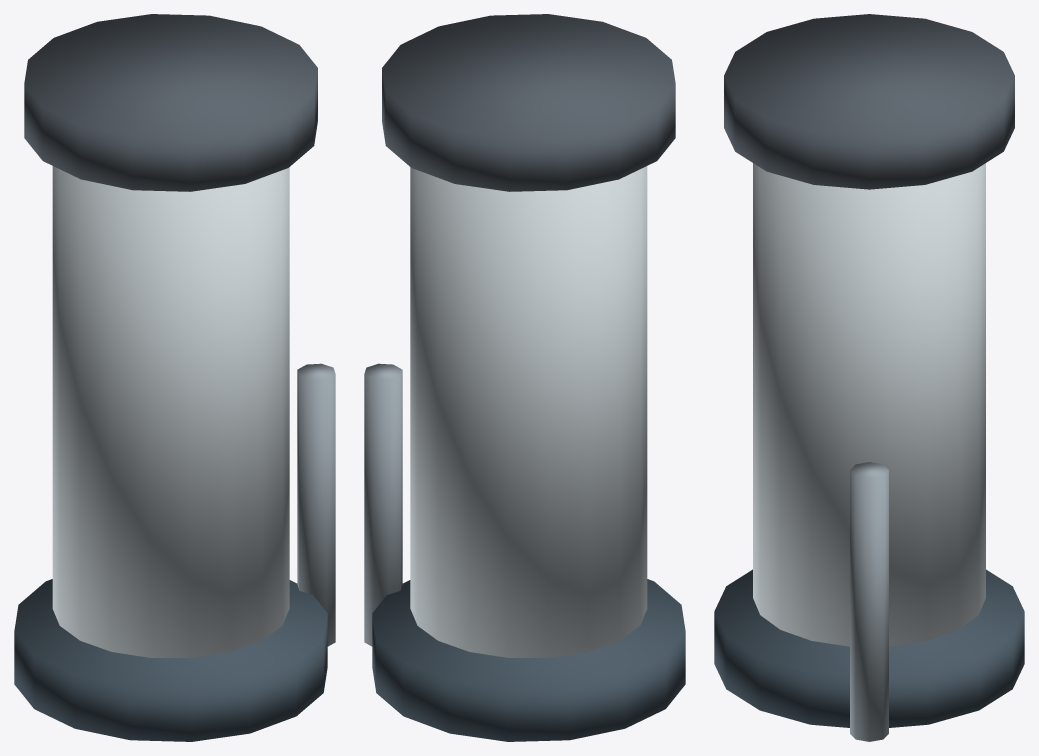
The model's file is uv_unit.glb.
3 renders of one model, left to right at view 1: azimuth 30°, elevation 25°; view 2: azimuth 150°, elevation 25°; view 3: azimuth 270°, elevation 25°, orthographic.
Parts seen in each view (by area): view 1: Body; view 2: Body; view 3: Body.
Boxes of the visible parts, x1,y1,x2,y2 form: Body: [14, 14, 335, 741]; Body: [364, 14, 685, 741]; Body: [714, 14, 1024, 741].
Size of the model in its own units: 0.7 by 1.34 by 0.64.
